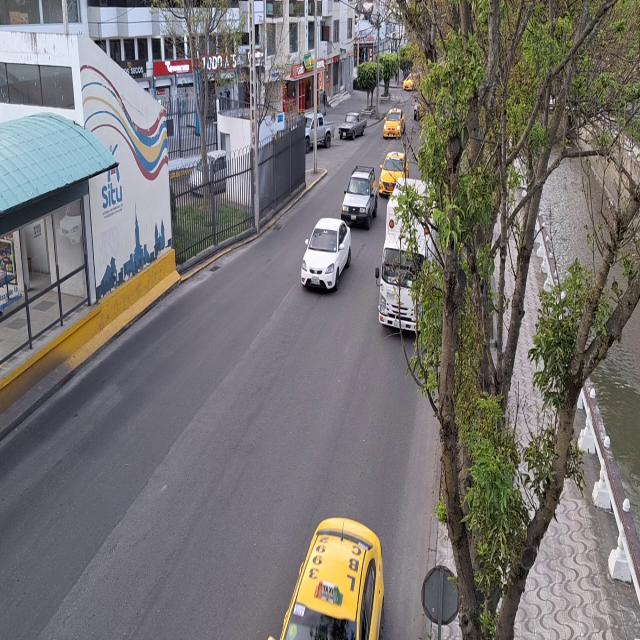CMT: (305, 112, 336, 144), (338, 111, 366, 141)
SED: (279, 516, 386, 639), (300, 216, 352, 291), (341, 165, 378, 230), (378, 150, 409, 196), (383, 107, 406, 139)
TRUCK: (380, 187, 438, 330)
